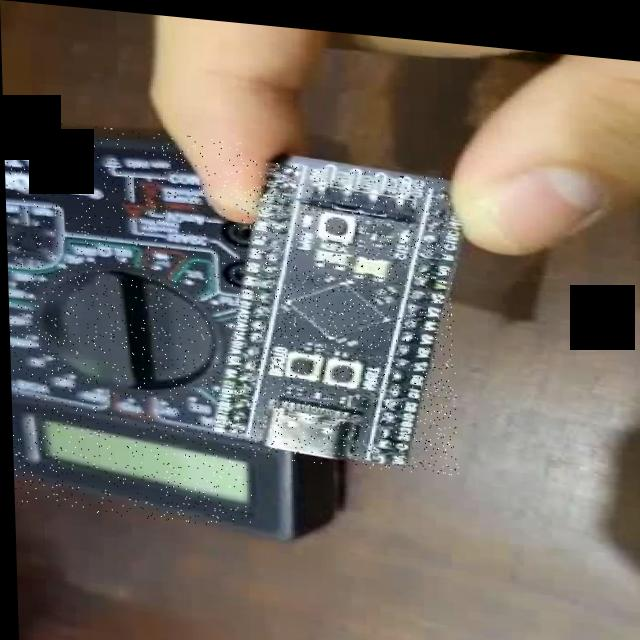multimeter: (3, 118, 252, 524)
stm32: (188, 150, 456, 468)
